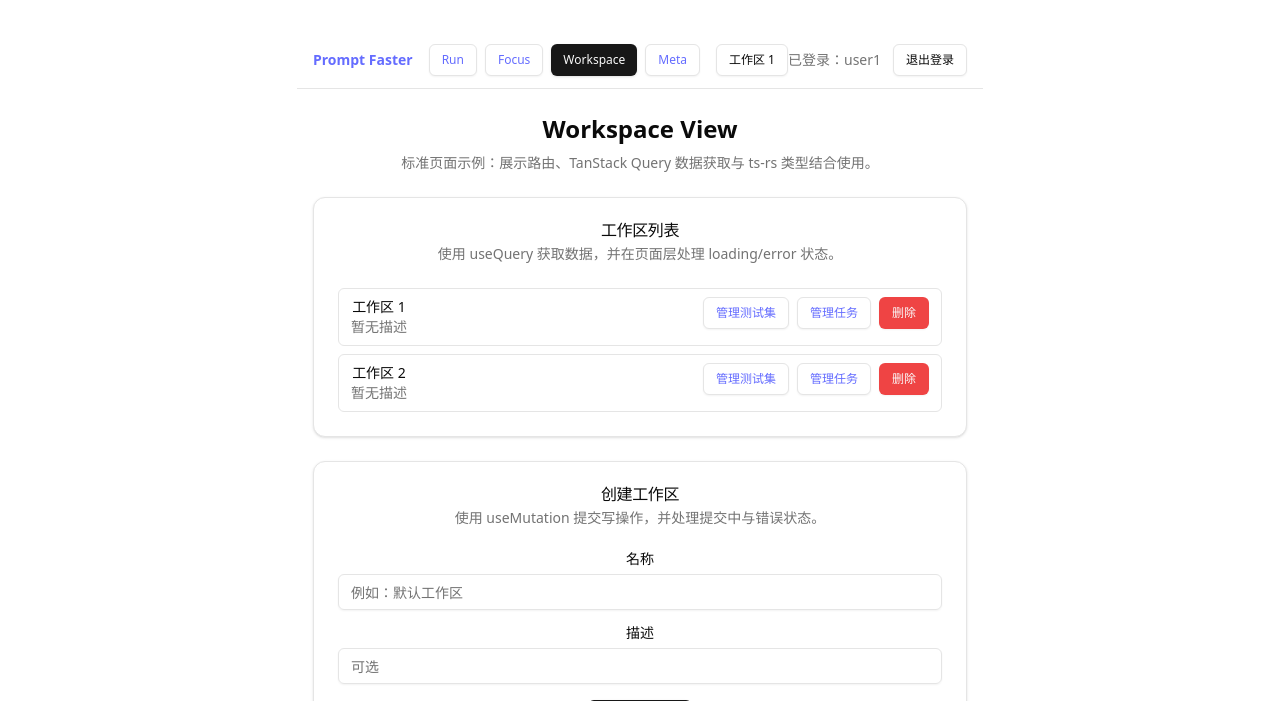
Scenario: App routes › 取消删除 → 不触发删除请求
Expected: the text "工作区 1" is shown, left=351, top=297, right=407, bottom=317
Click the button with test id "workspace-delete-ws-1" at (904, 313), box left=879, top=297, right=929, bottom=329
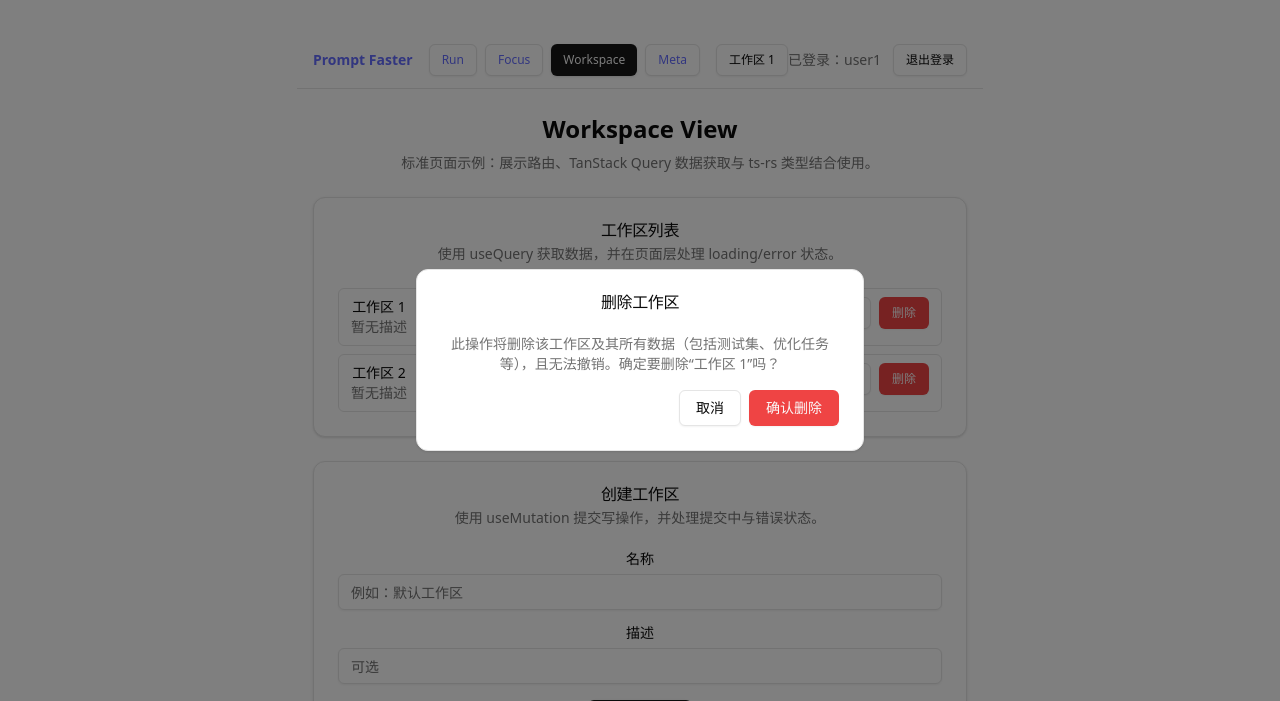
Expected: the dialog is shown, left=416, top=269, right=864, bottom=451
Click the button with test id "workspace-delete-cancel" at (710, 408), box left=679, top=390, right=741, bottom=426
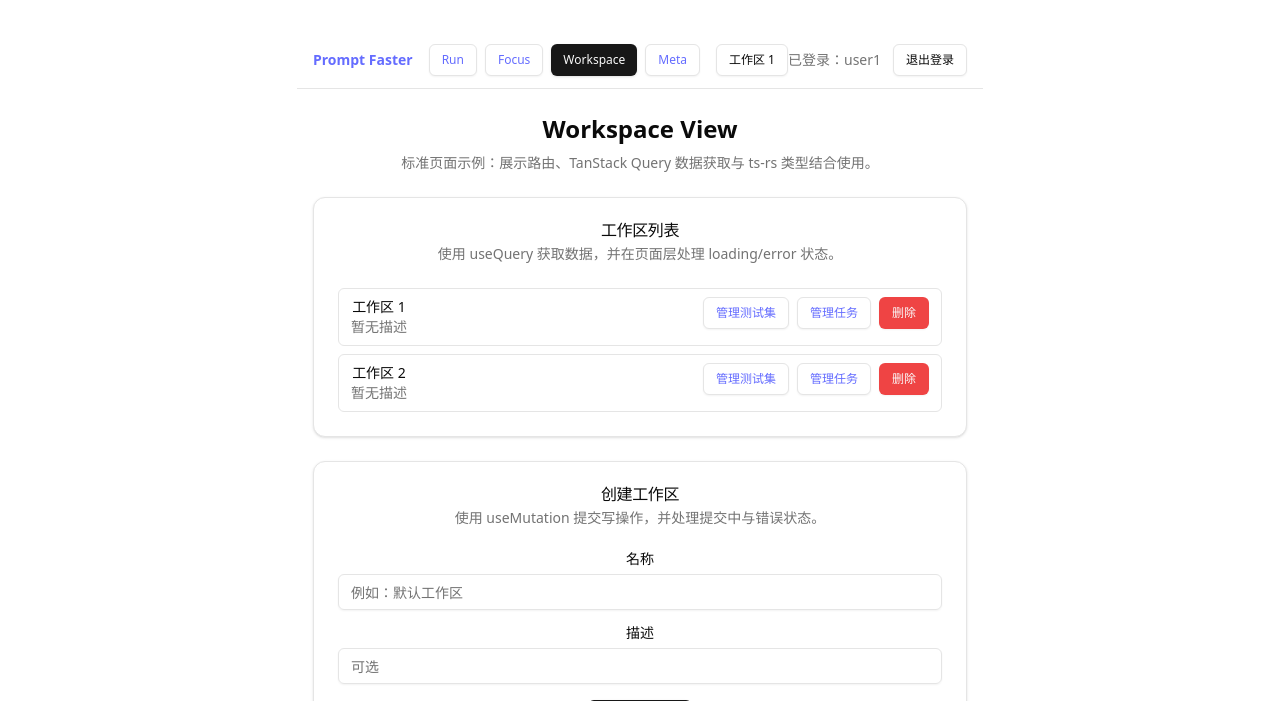
Expected: the dialog is gone
